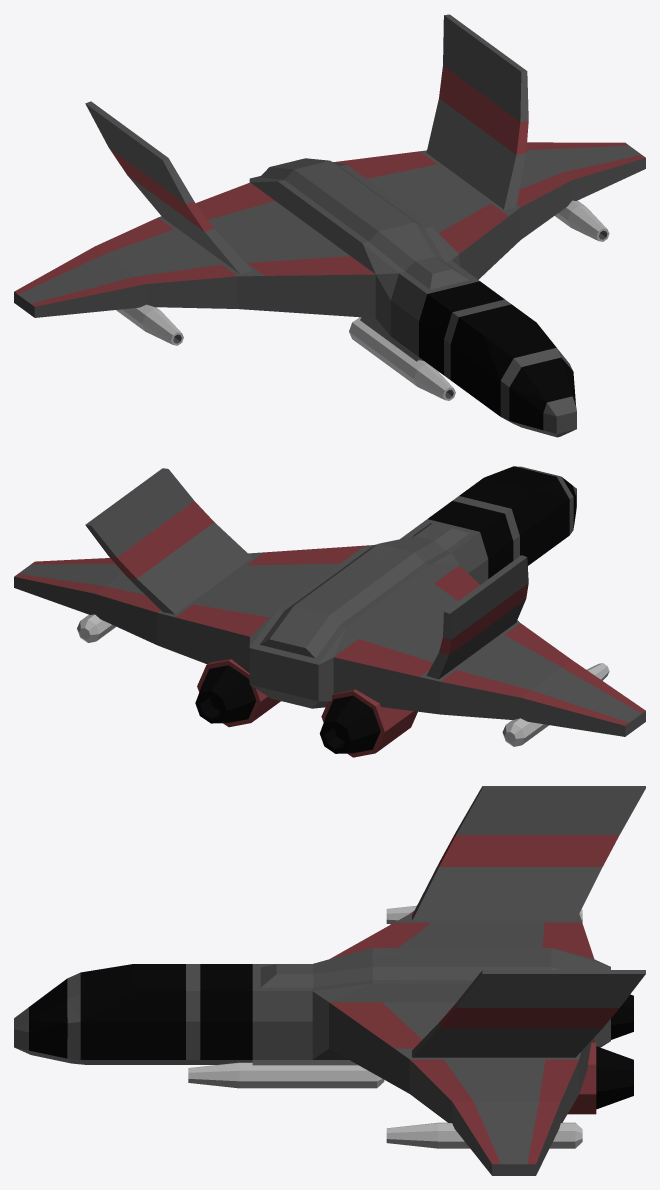
File: Spaceship4_2.fbx
3 views of the same model, one above another, from view 1: azimuth 30°, elevation 25°; view 2: azimuth 150°, elevation 25°; view 3: azimuth 270°, elevation 25° (orthographic). The views are drawn at different scales.
Visible parts, largest first — view 1: Spaceship4_2; view 2: Spaceship4_2; view 3: Spaceship4_2.
Part boxes in pixels (x1,y1,x2,y2): Spaceship4_2: (14,14,645,437); Spaceship4_2: (14,466,645,757); Spaceship4_2: (14,786,645,1175).
Bounding box in the file's own units: 1061 × 317 × 900.
